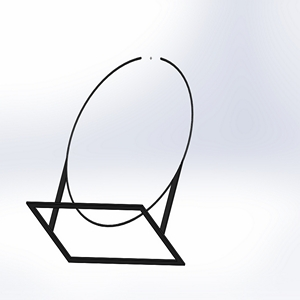circle: (25, 52, 196, 269)
